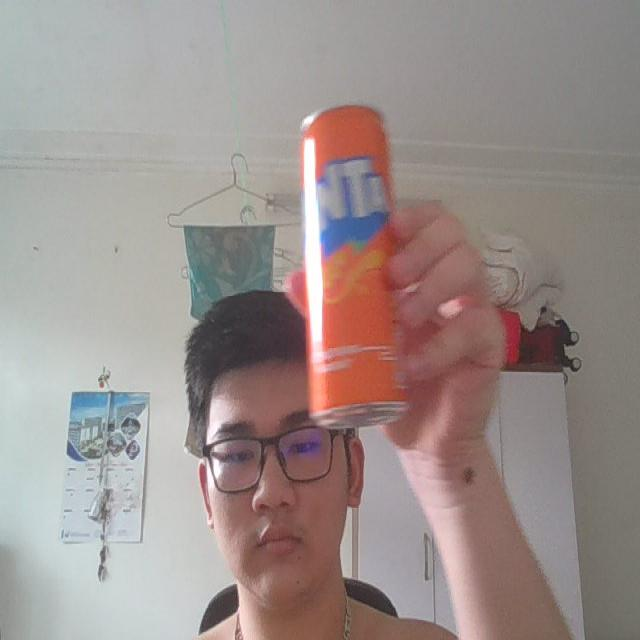Fanta: (299, 98, 412, 432)
